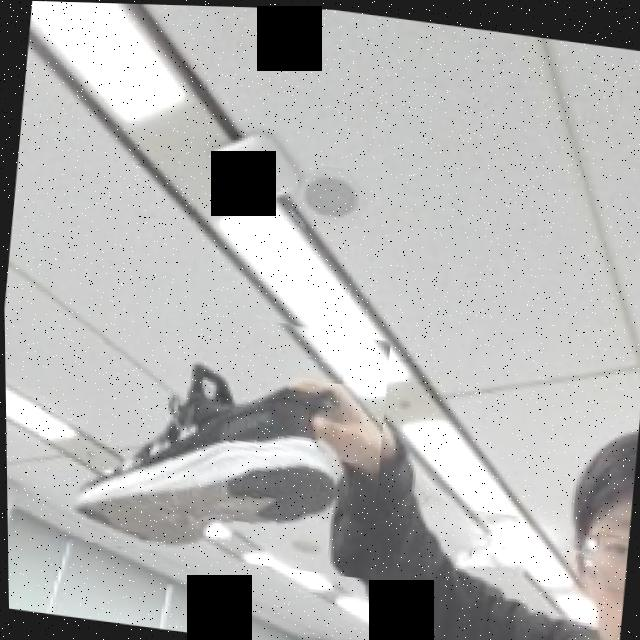shoe: (11, 281, 394, 578)
